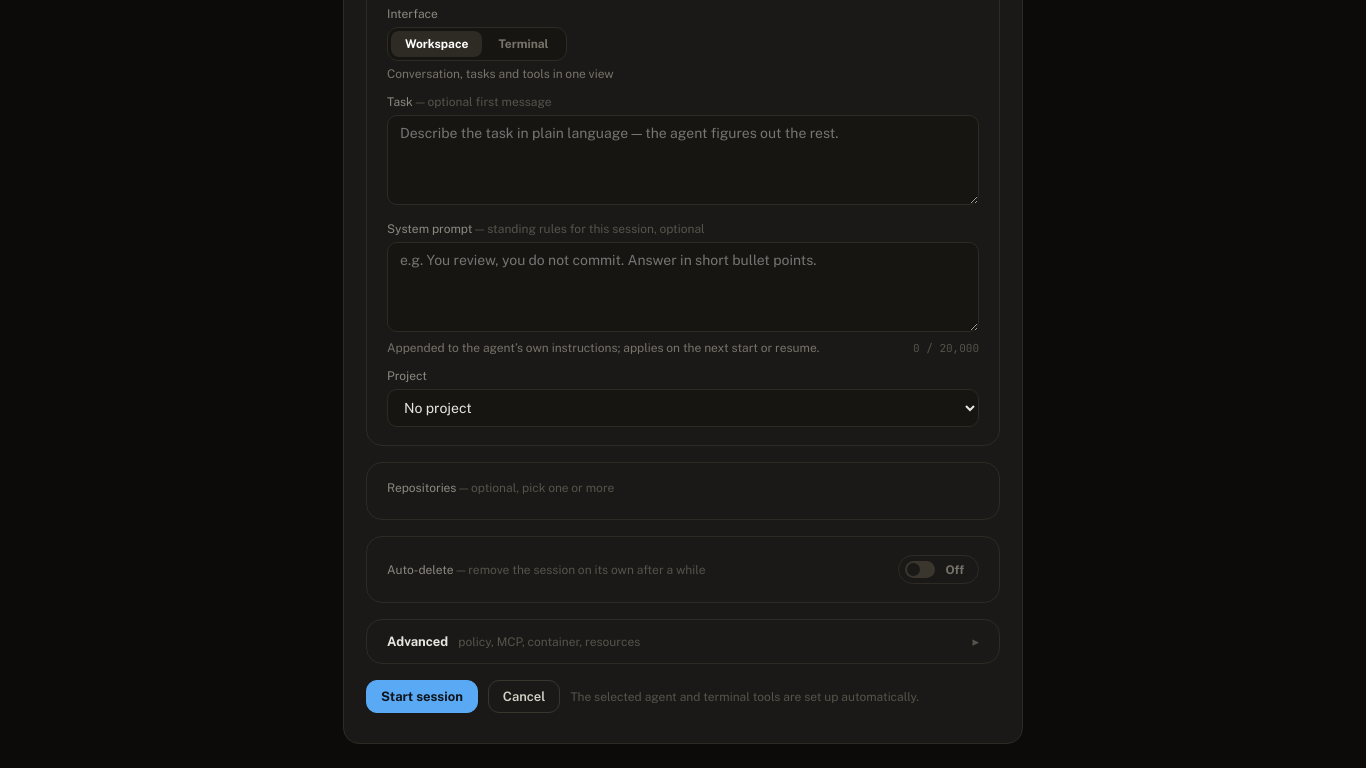
Test: saved MCP server picker › survives an older backend without the library endpoint
(page scrolled)
Click the button that starts with "Advanced": [418, 642] box [367,620,999,663]
(page scrolled)
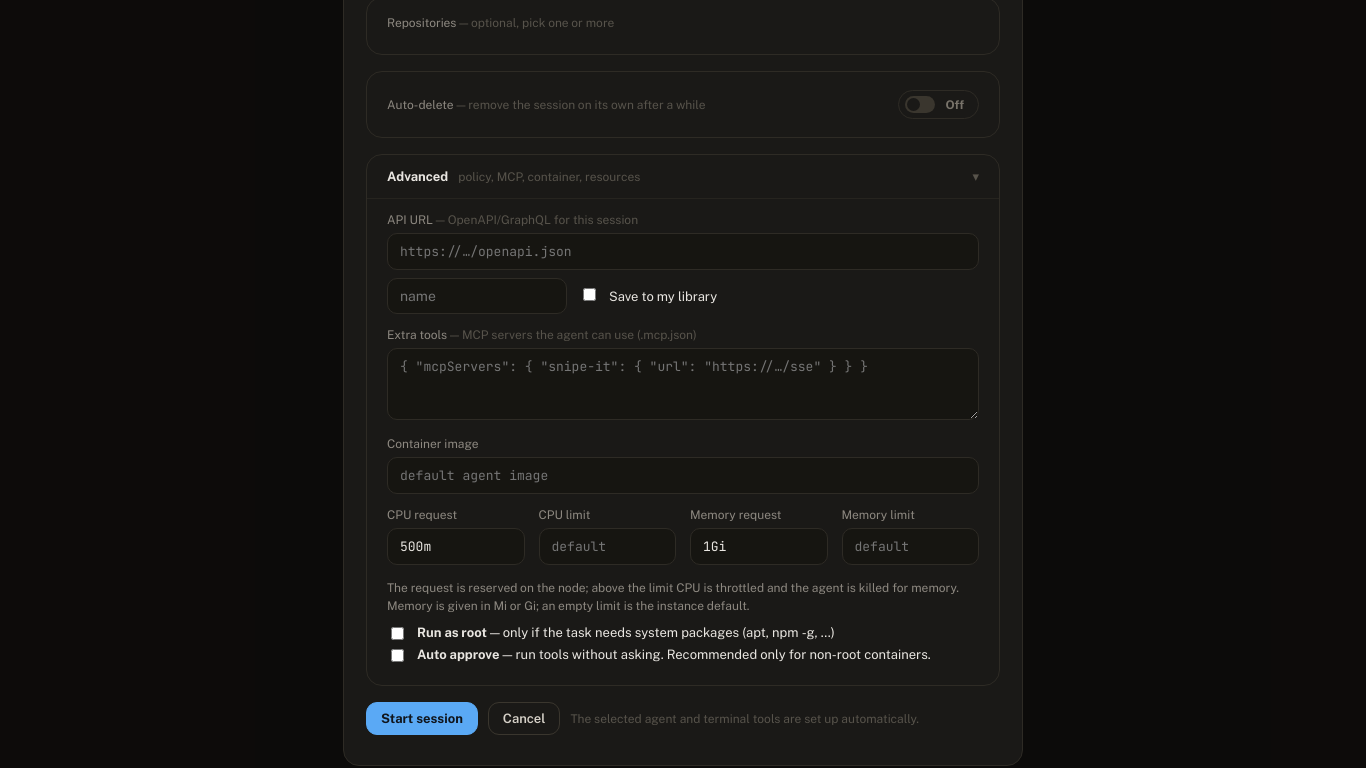
Result: the text box with placeholder "{ \"mcpServers\": { \"snipe-it\": { \"url\": \"https://…/sse\" } } }" is shown at [387,348,979,420]
